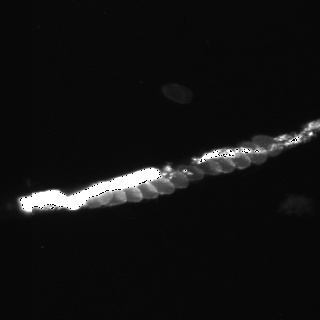embryo: (161, 83, 192, 104), (205, 153, 236, 173), (253, 136, 283, 156), (241, 142, 268, 164), (193, 158, 222, 176), (147, 177, 175, 195), (225, 149, 249, 169), (132, 182, 158, 200), (116, 186, 142, 204), (177, 165, 205, 181), (100, 190, 128, 206), (164, 171, 190, 188), (87, 192, 114, 208)
